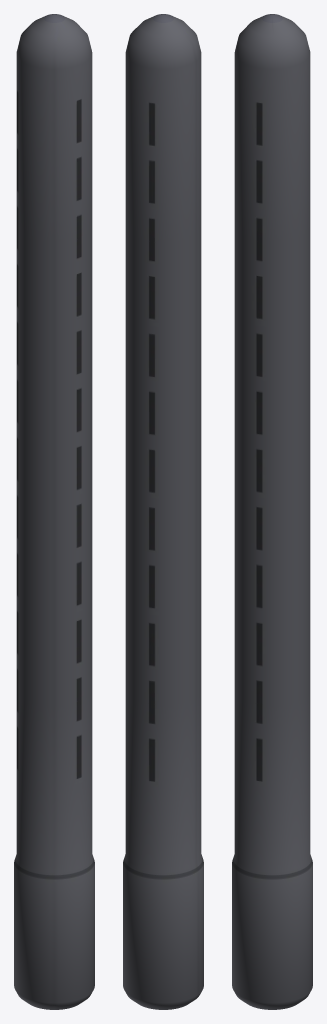
File: rode-ntg3.glb
3 views of the same model, side by side, from view 1: azimuth 90°, elevation 25°; view 2: azimuth 150°, elevation 25°; view 3: azimuth 270°, elevation 25° (orthographic).
Parts seen in each view (by area): view 1: rode-ntg3-body; view 2: rode-ntg3-body; view 3: rode-ntg3-body.
Part boxes in pixels (x1,y1,x2,y2): rode-ntg3-body: [14, 14, 94, 1009]; rode-ntg3-body: [123, 14, 203, 1009]; rode-ntg3-body: [232, 14, 312, 1009].
Size of the model in its own units: 0.019 by 0.255 by 0.019.
1 material, 1 textured.
